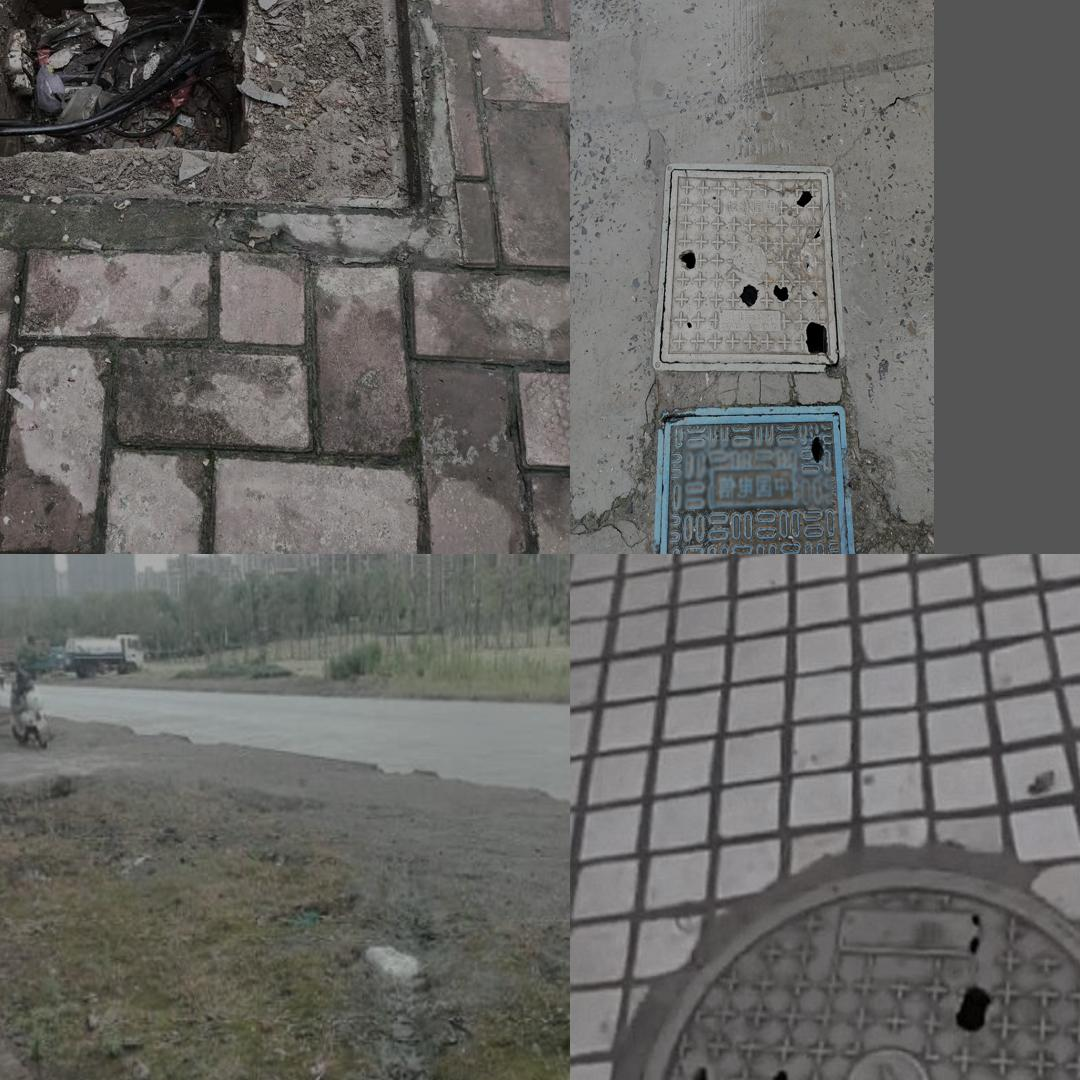broke: (0, 0, 434, 213), (631, 879, 1080, 1080), (652, 161, 841, 374)
